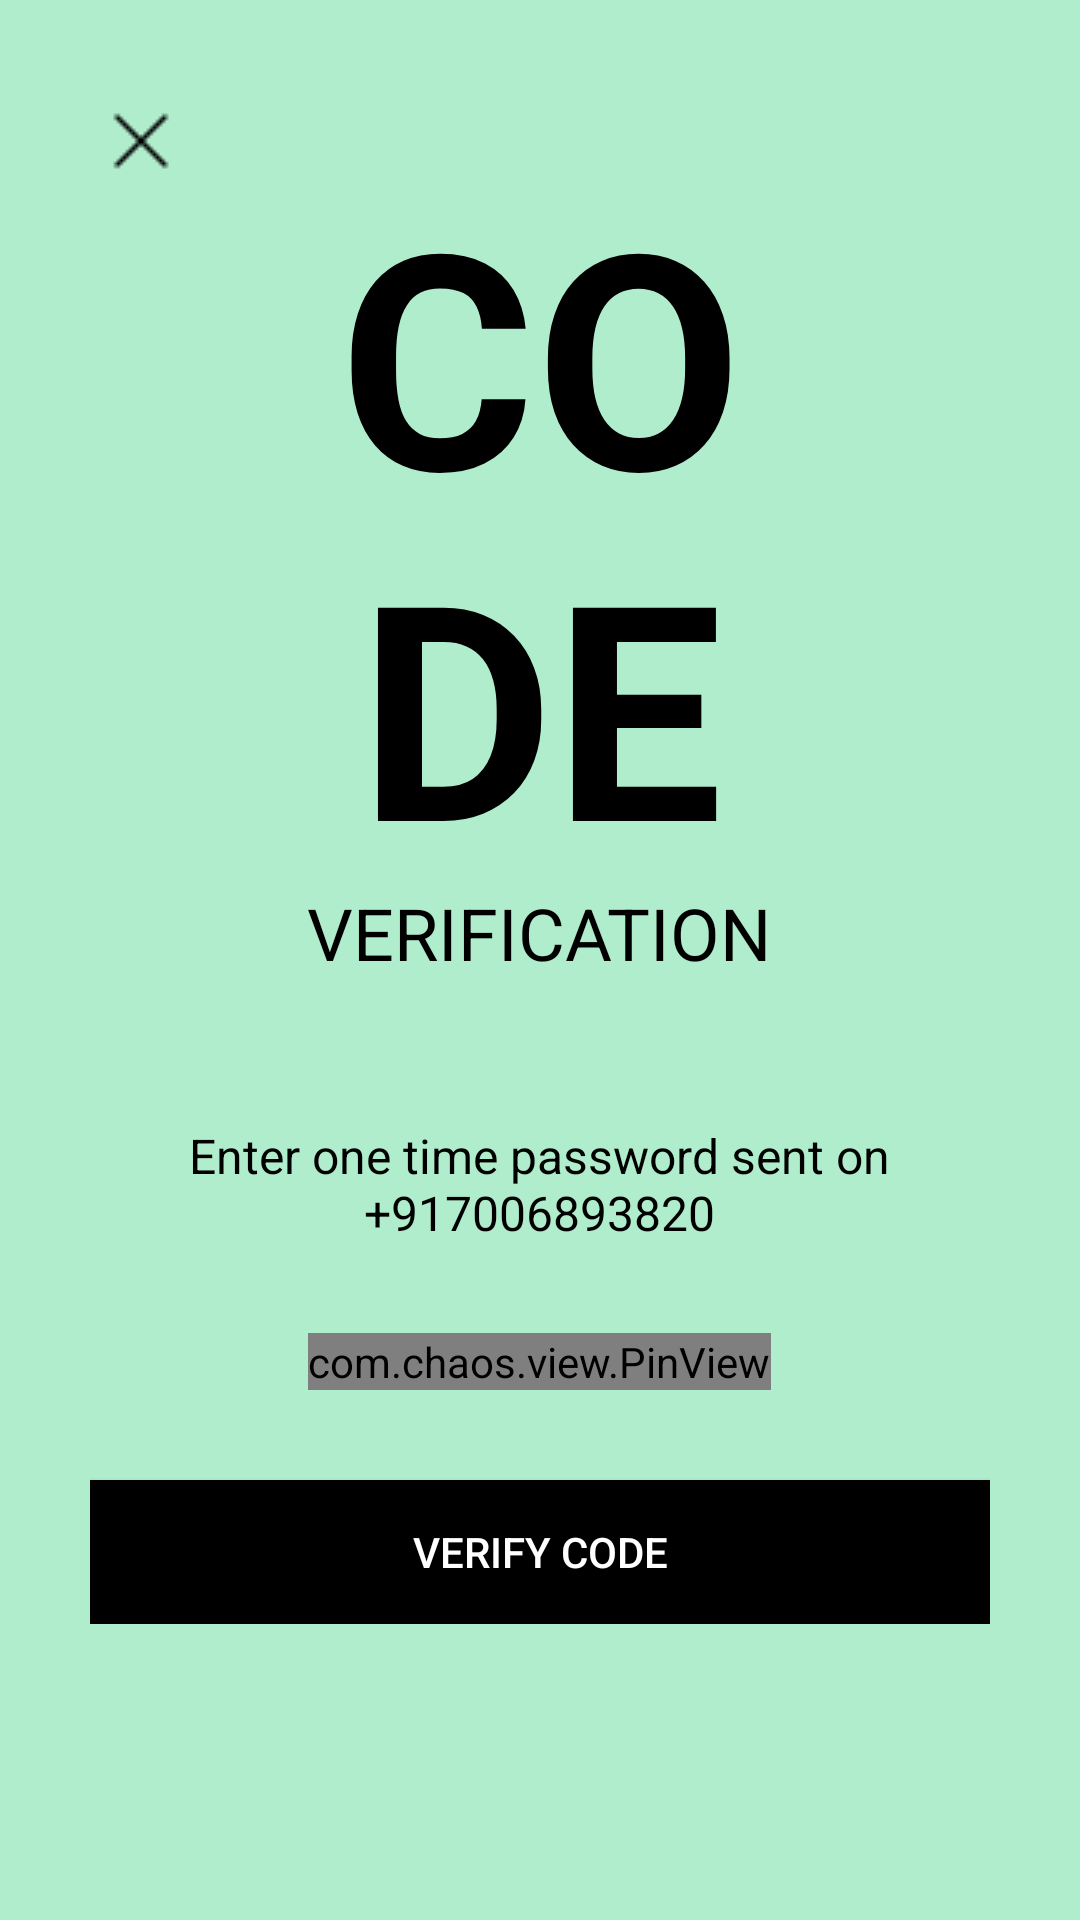

Screen size 1080px×1920px. Icon name, then its center in pixels as point (x, y):
cancel: point (141, 141)
